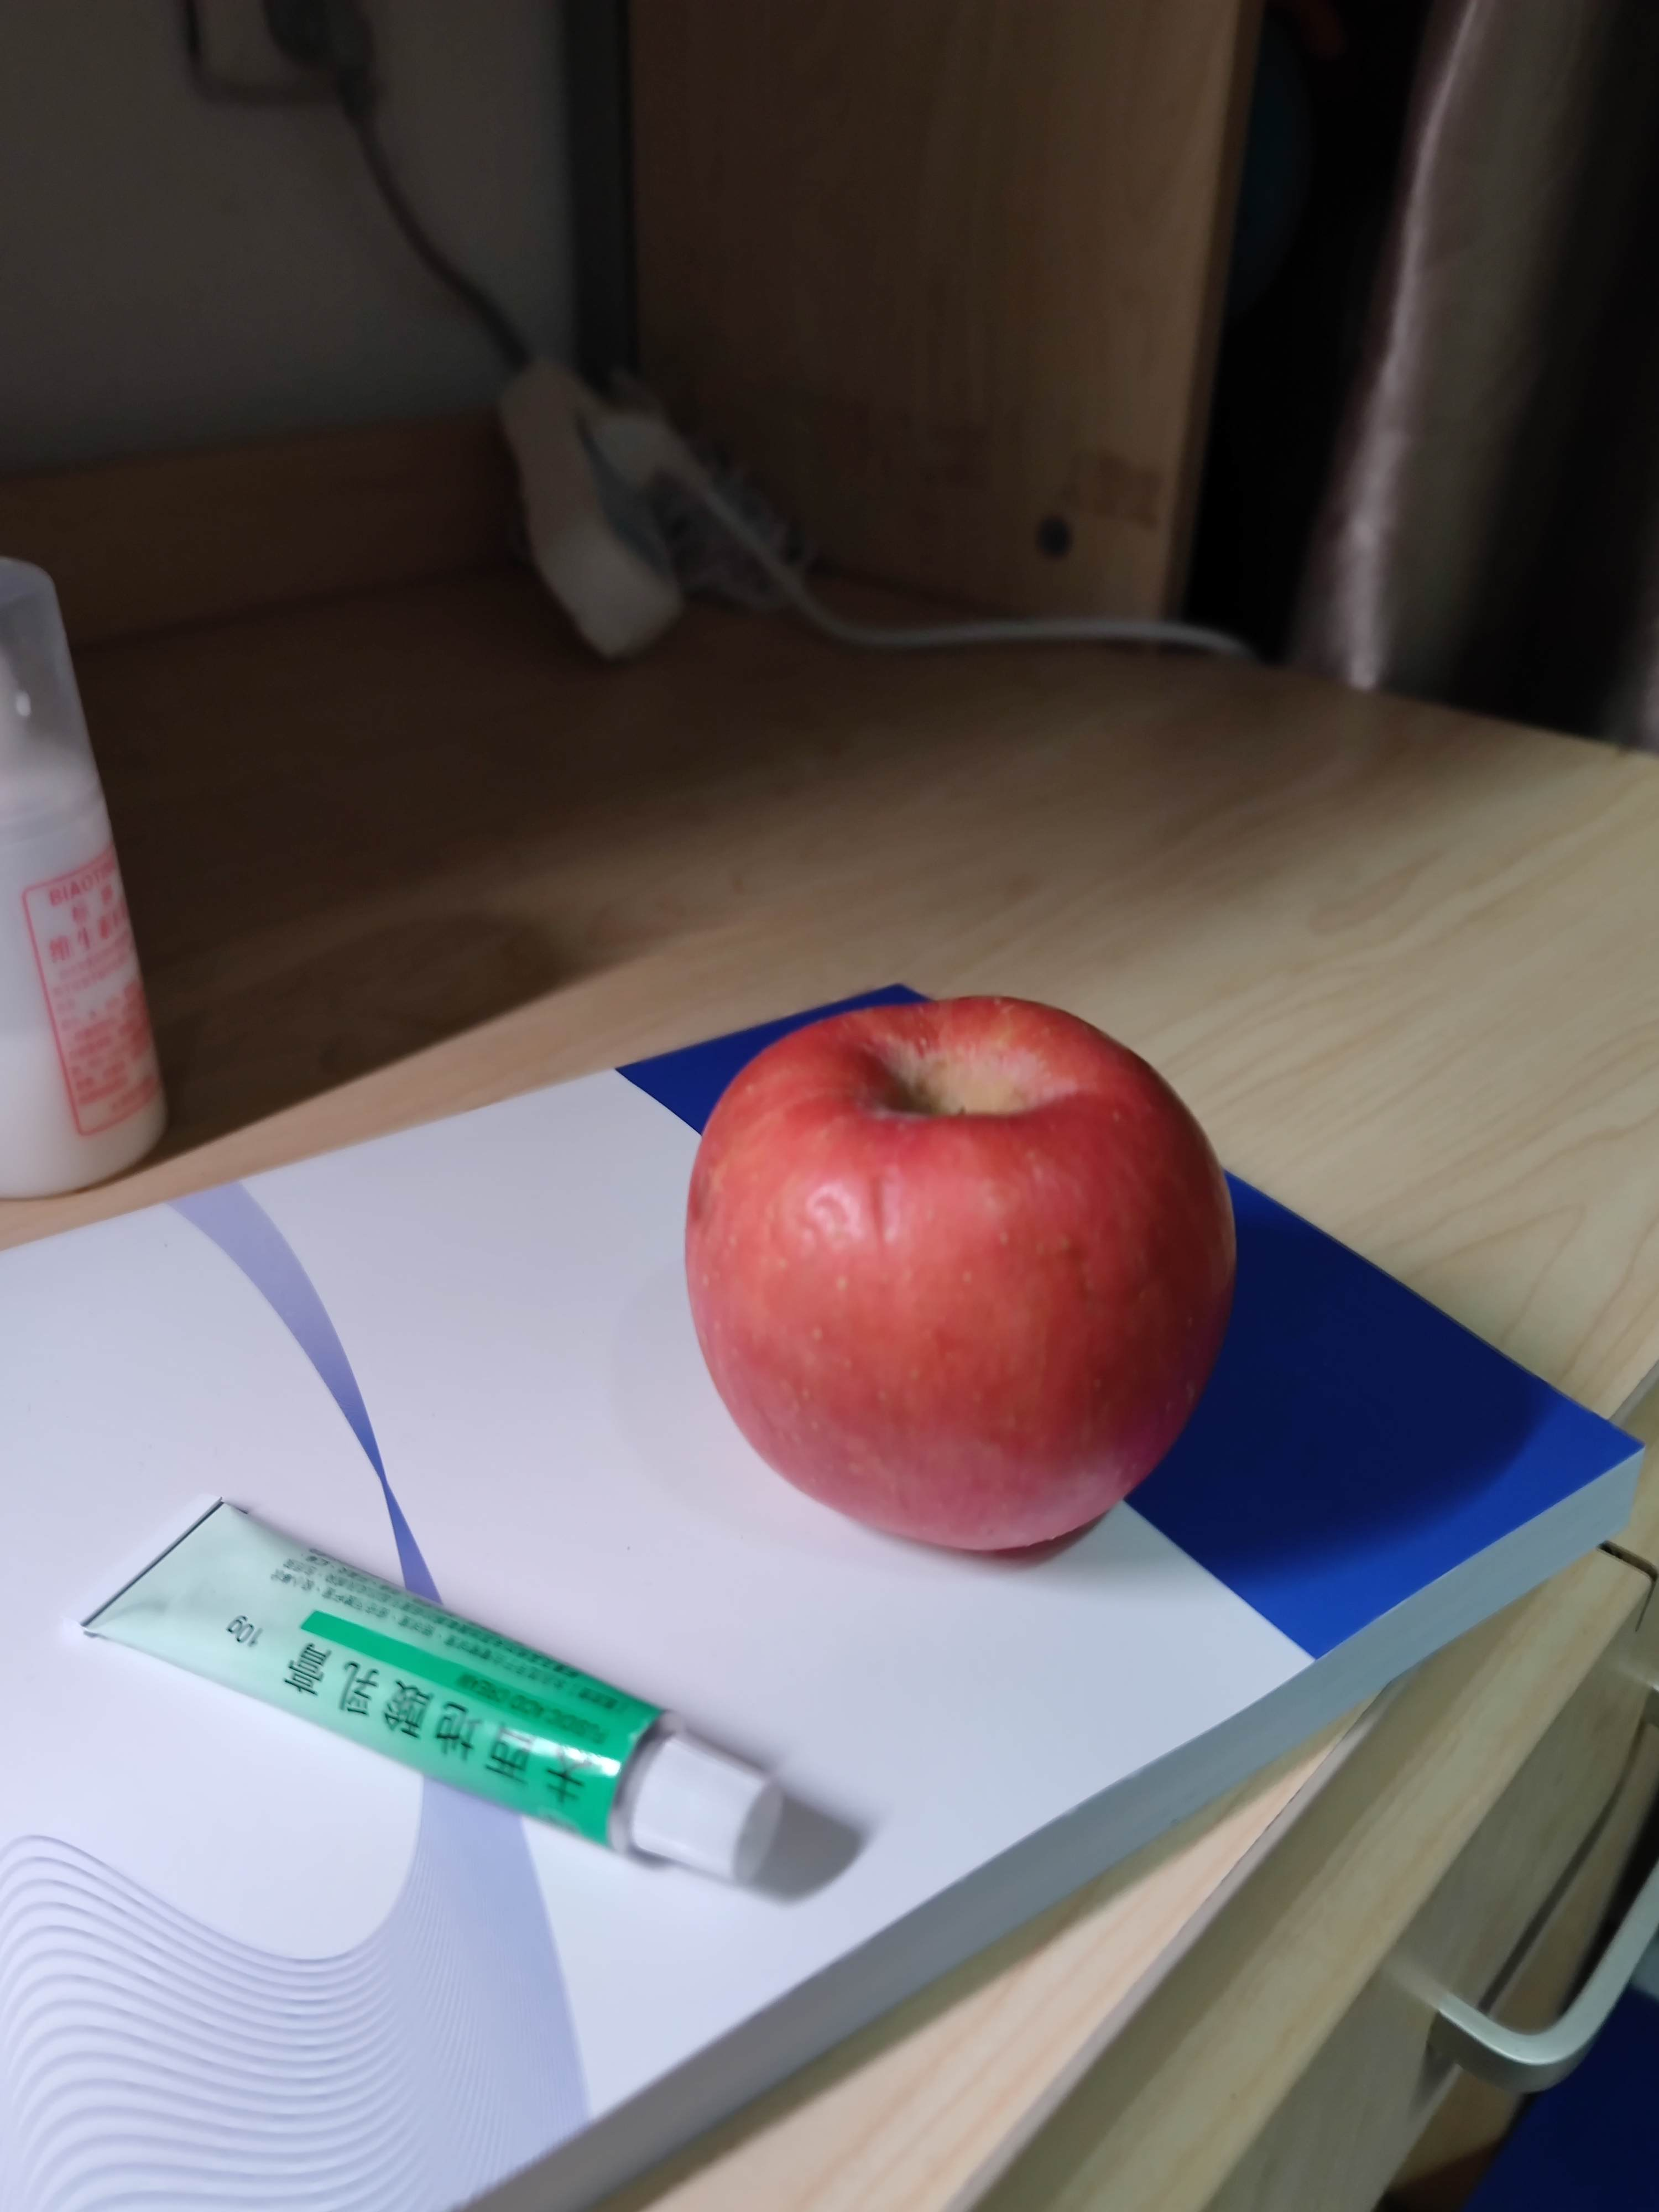apple: (683, 1005, 1241, 1568)
